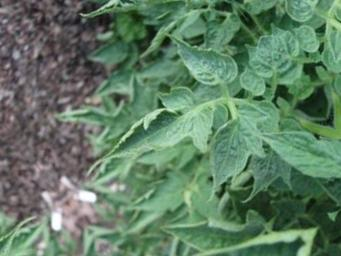Tomato leaf mosaic virus: (88, 72, 231, 206), (173, 101, 282, 207), (260, 97, 341, 215), (158, 9, 247, 102), (235, 62, 271, 101)
